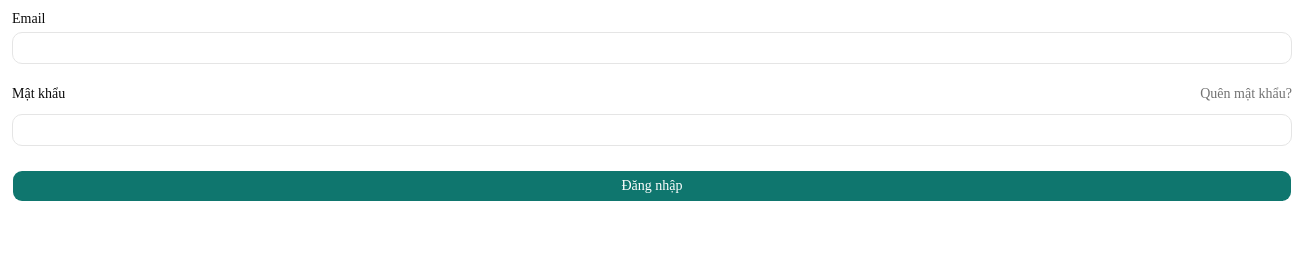
Test case: LoginForm › shows field errors and does not submit when form is empty
Click the button "Đăng nhập". click: click(652, 186)
box: [12,170,1292,202]
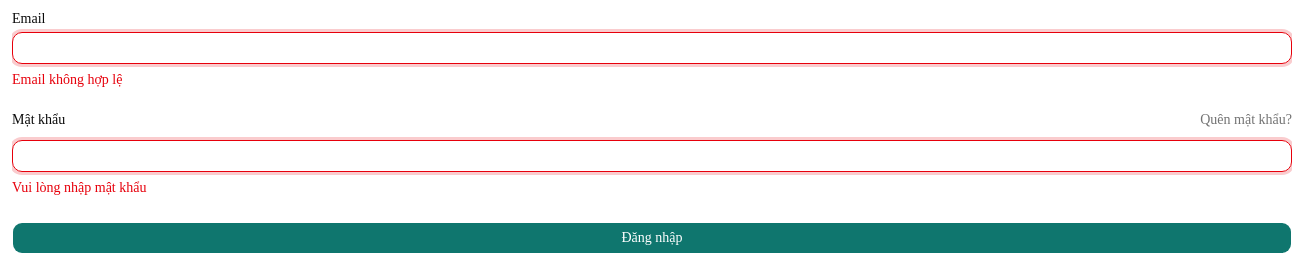
Check: the text "Vui lòng nhập mật khẩu" is shown, box [12,180,146,195]
